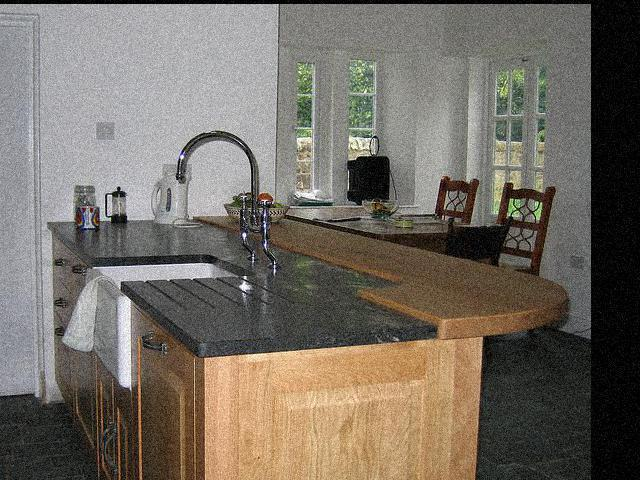Lavaplatos: (58, 123, 268, 395)
